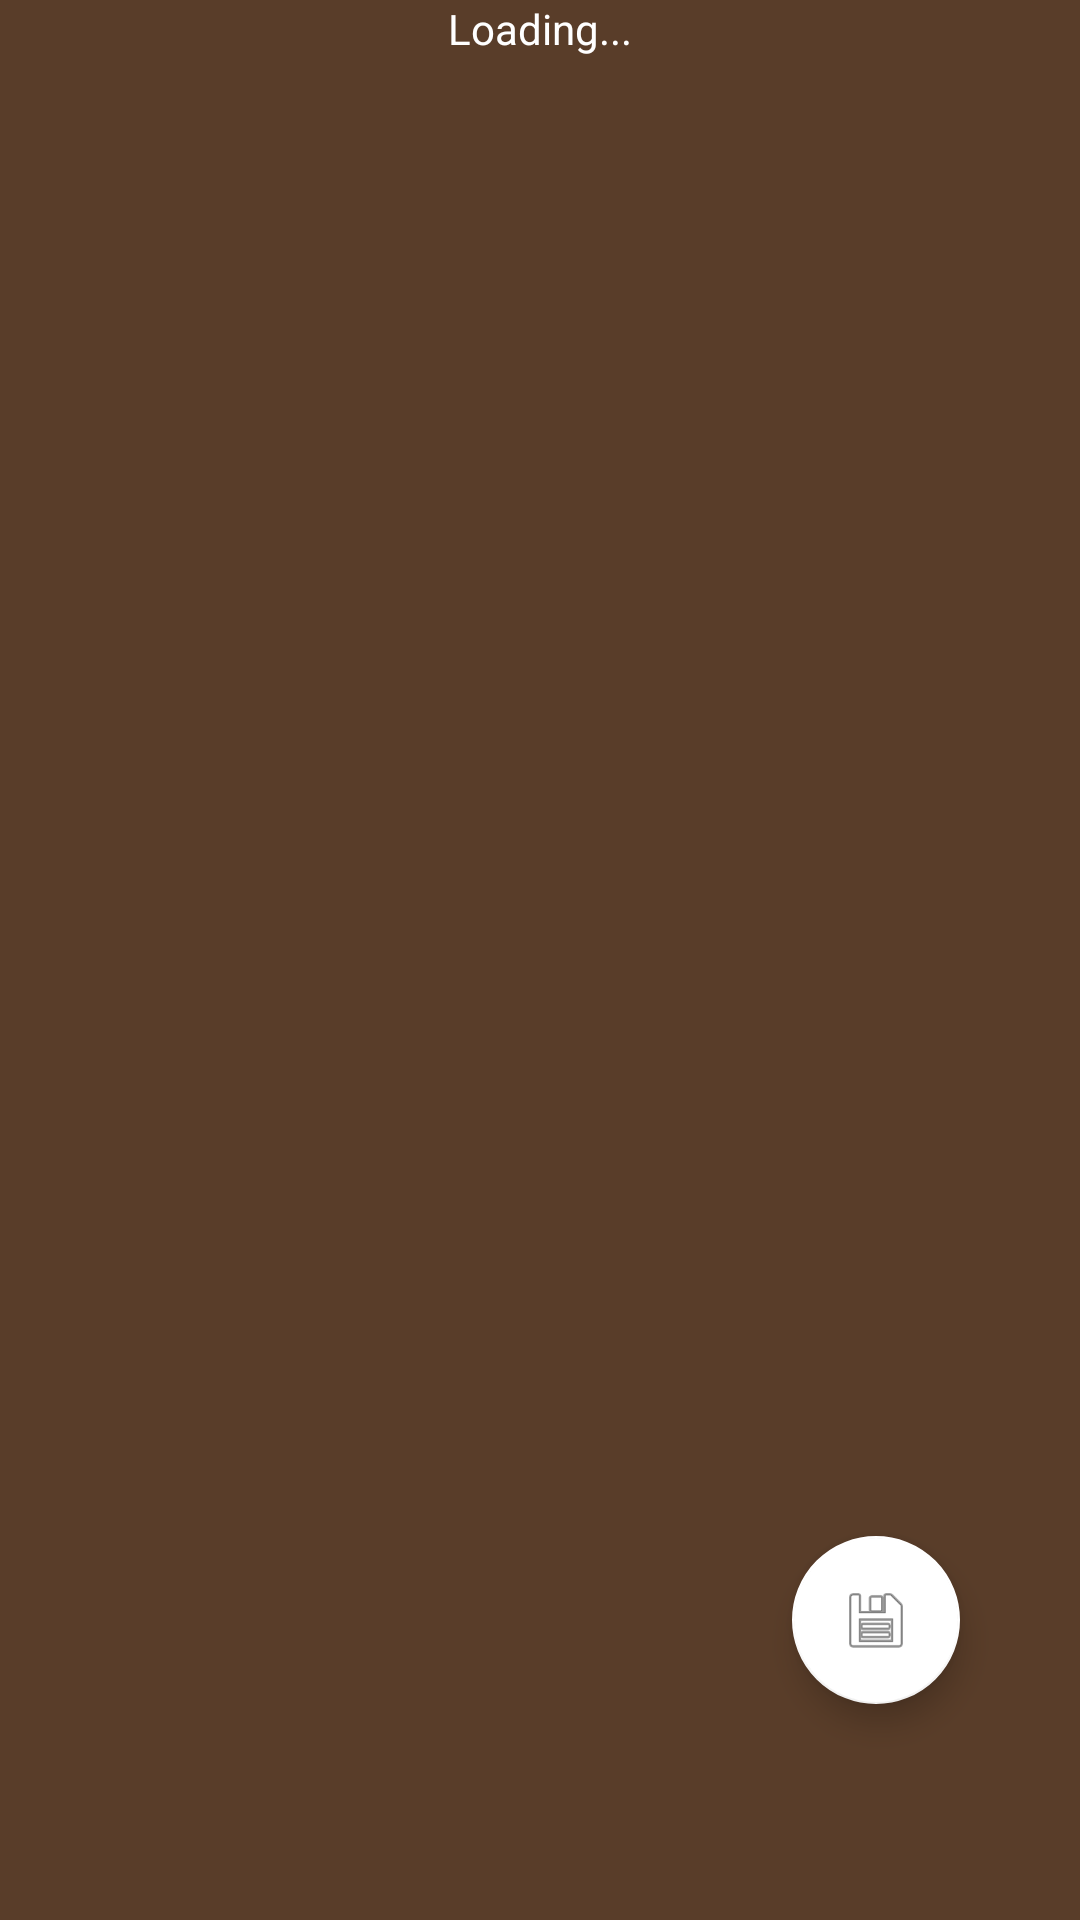

Locate icon controls on the screen. Image size 1080w x 1920h, boxes as (x1, y1, x2, y2).
save: (792, 1536, 960, 1704)
